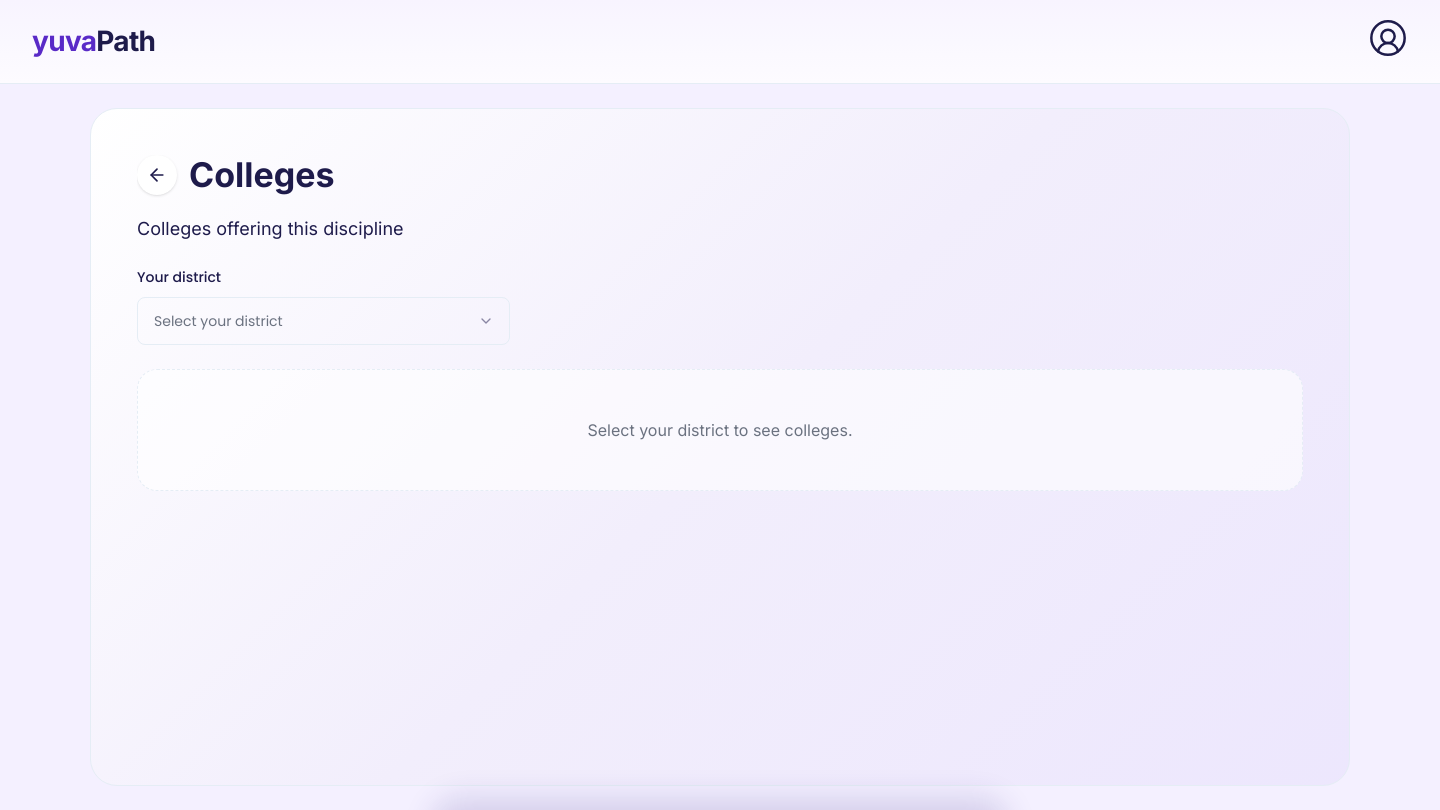
Test: CollegePage — pick a district first › switching district refetches for the new district only
Select "Chennai" in the dropdown named "Your district" at [323, 321], box left=137, top=297, right=510, bottom=345
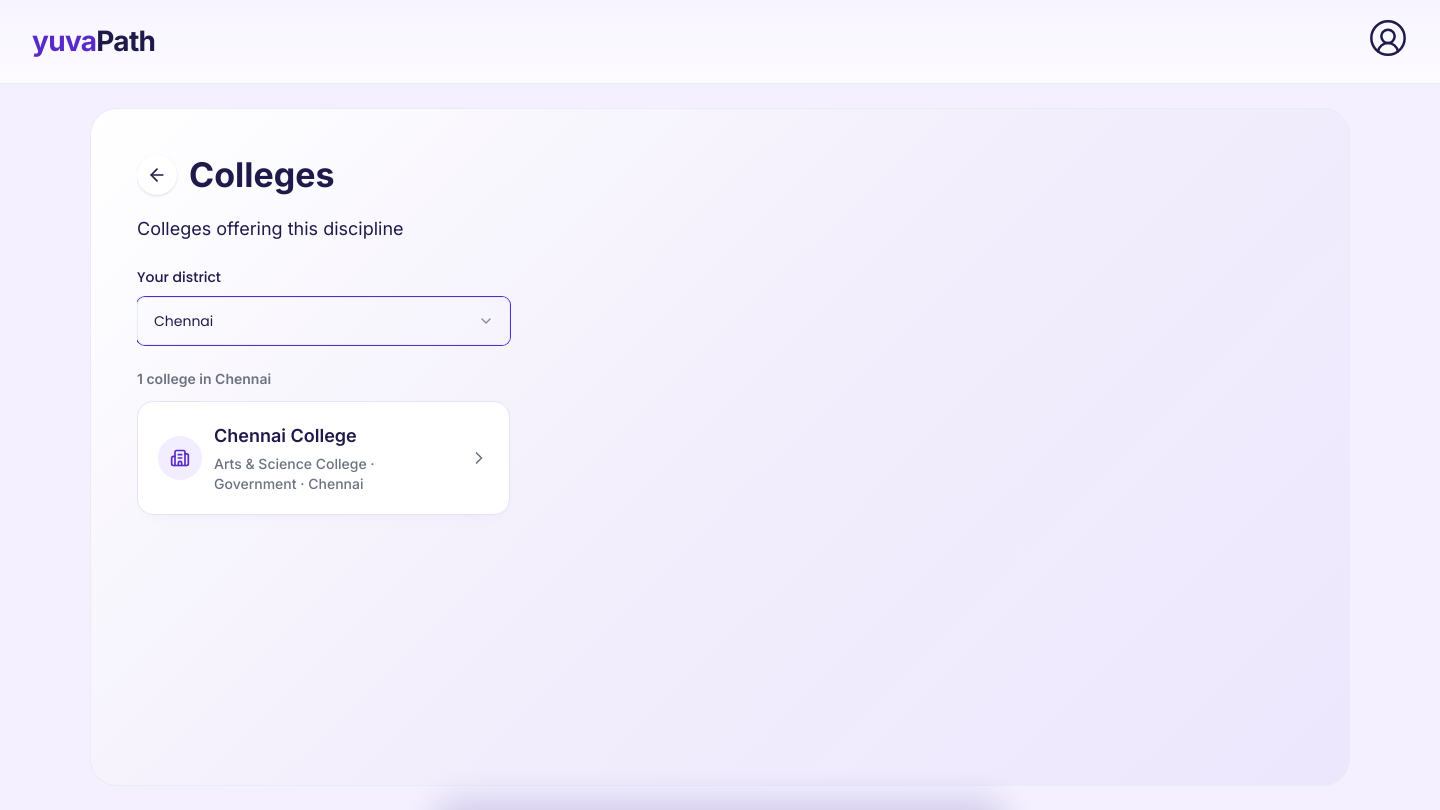
Now the text "Chennai College" is shown, box left=214, top=425, right=357, bottom=446
Select "Coimbatore" in the dropdown named "Your district" at [323, 321], box left=137, top=297, right=510, bottom=345
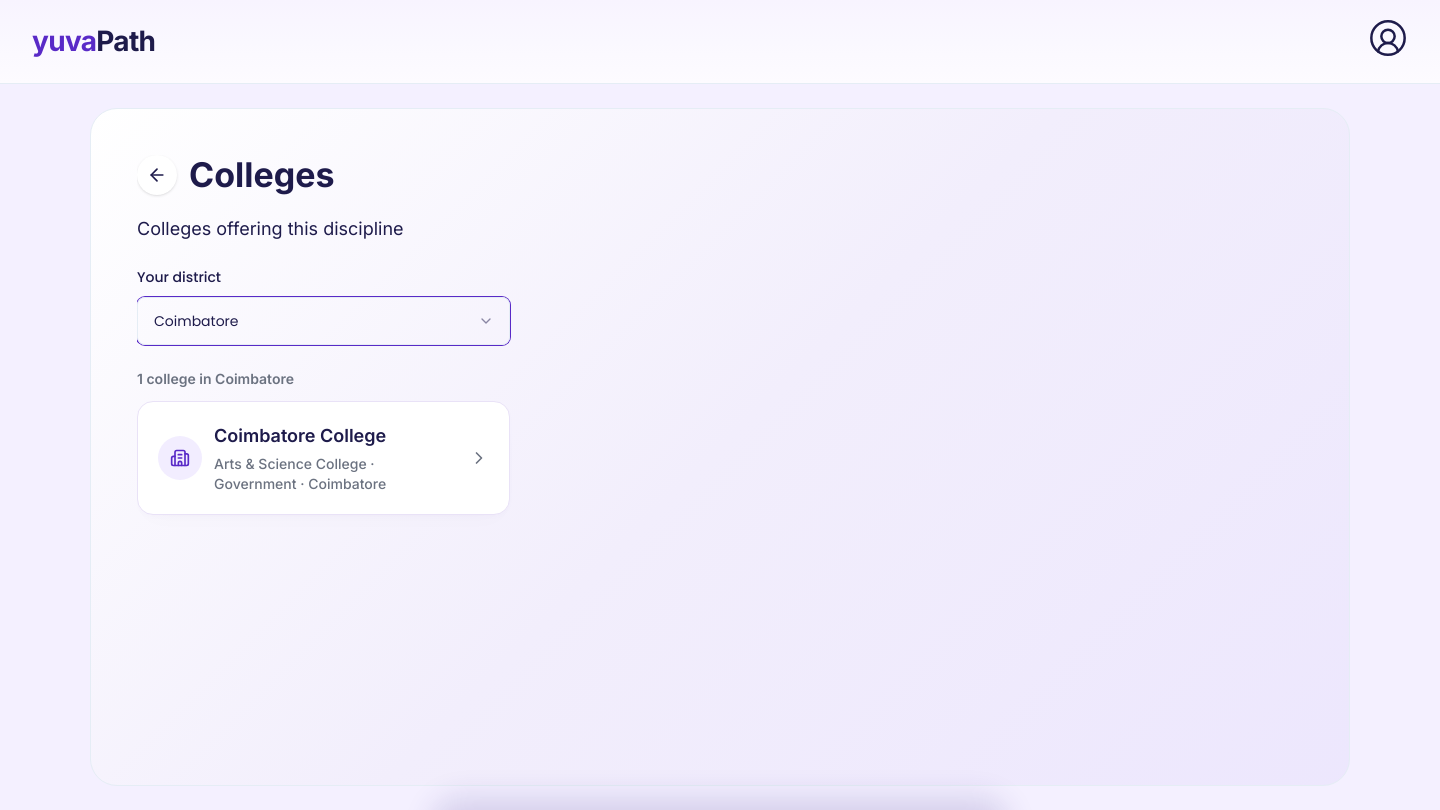
Now the text "Coimbatore College" is shown, box left=214, top=425, right=386, bottom=446
Now the button "Chennai College" is gone
